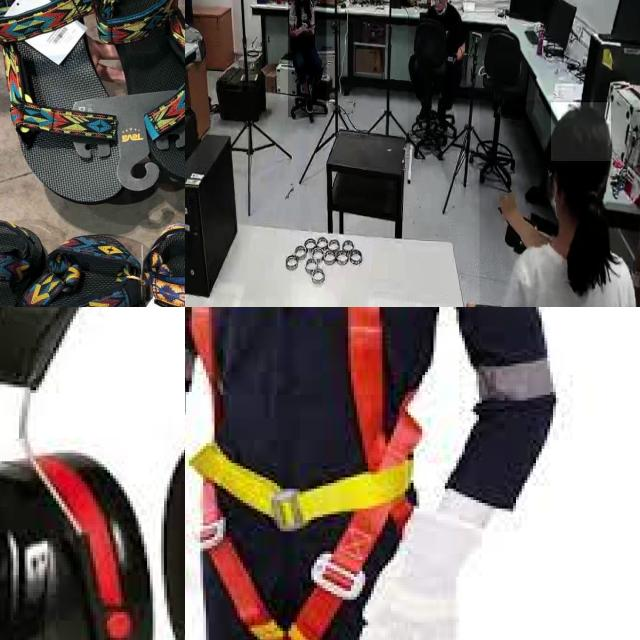Ear-protection: (0, 447, 152, 640)
Harness: (189, 307, 423, 640)
Sandals: (0, 0, 185, 218), (0, 210, 148, 307)
face_mask: (294, 0, 309, 10)
face_nomask: (433, 0, 446, 10)
hand_noglove: (445, 50, 459, 66)
head_nohelmet: (551, 102, 611, 162)
person: (479, 100, 640, 307), (407, 0, 468, 151), (288, 0, 327, 118)
